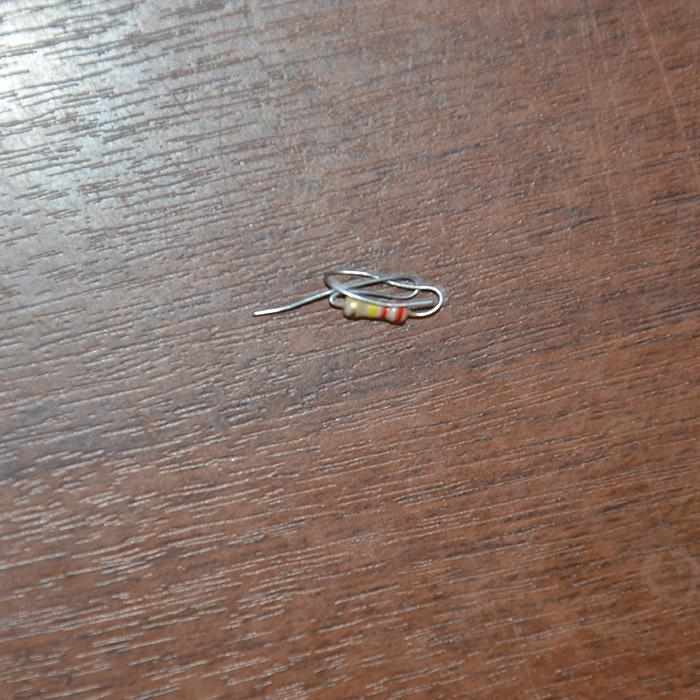resistor: (336, 295, 409, 324)
